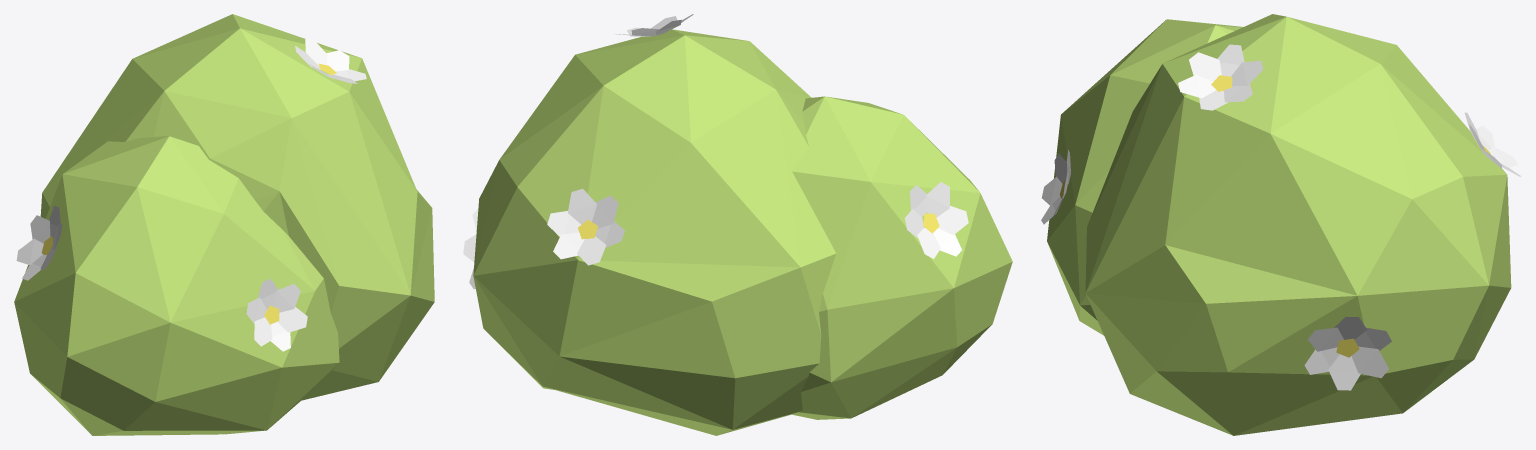
File: FlowerBush_c_m_02.fbx
3 renders of one model, left to right at view 1: azimuth 30°, elevation 25°; view 2: azimuth 150°, elevation 25°; view 3: azimuth 270°, elevation 25°, orthographic. The views are drawn at different scales.
Visible parts, largest first — view 1: FlowerBush_c_m_02_LOD0; view 2: FlowerBush_c_m_02_LOD0; view 3: FlowerBush_c_m_02_LOD0.
Part boxes in pixels (box(x1,y1,x2,y2)): FlowerBush_c_m_02_LOD0: box(14, 14, 434, 435); FlowerBush_c_m_02_LOD0: box(463, 14, 1012, 435); FlowerBush_c_m_02_LOD0: box(1041, 14, 1521, 435).
Size of what is drawn, in the model's own units: 172 by 140 by 157.
